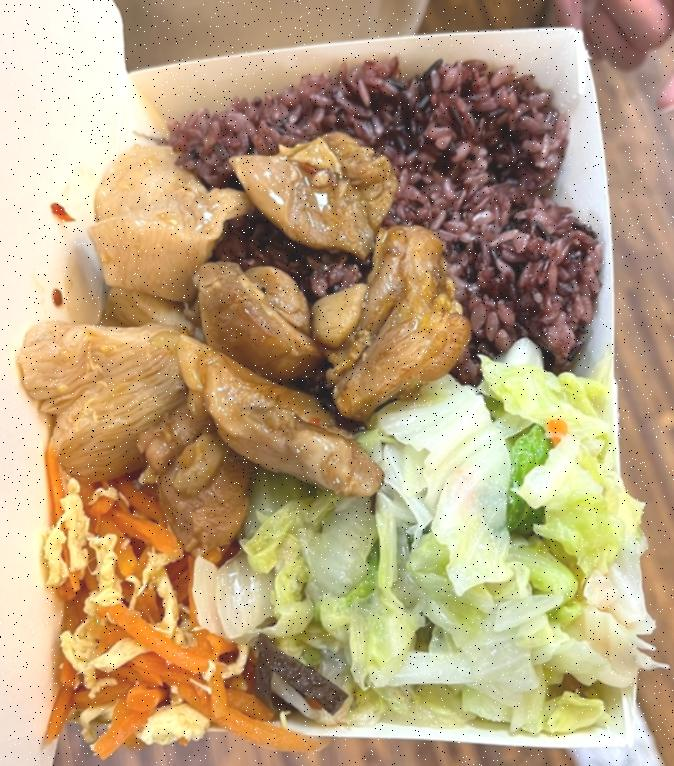box: (67, 2, 645, 761)
purple rice: (179, 58, 594, 380)
side dish: (253, 369, 636, 738), (52, 476, 250, 752)
three cup chicken: (26, 132, 459, 540)
